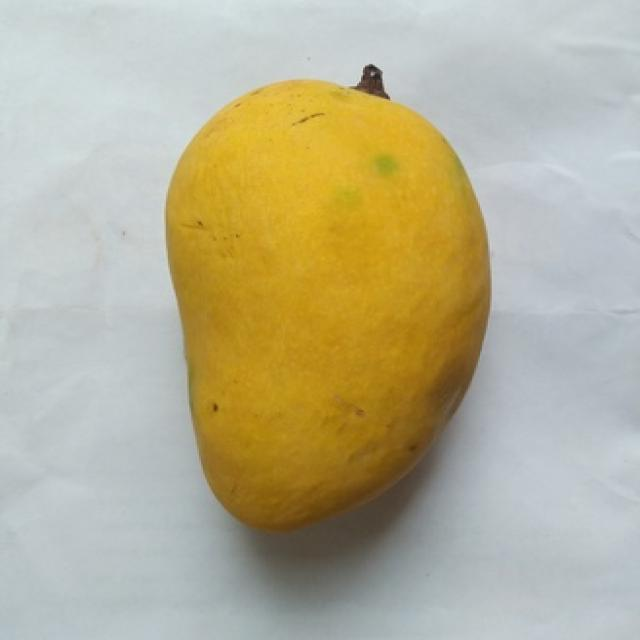Mango: (168, 80, 490, 530)
